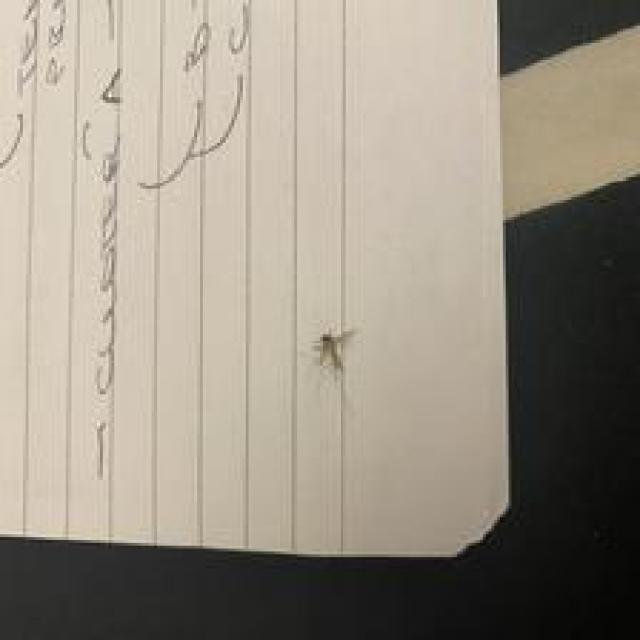Culex: (0, 0, 254, 477)
